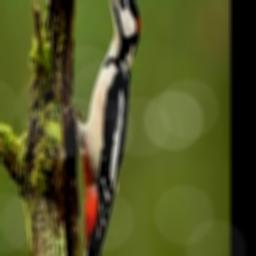Woodpecker: (61, 0, 139, 256)
